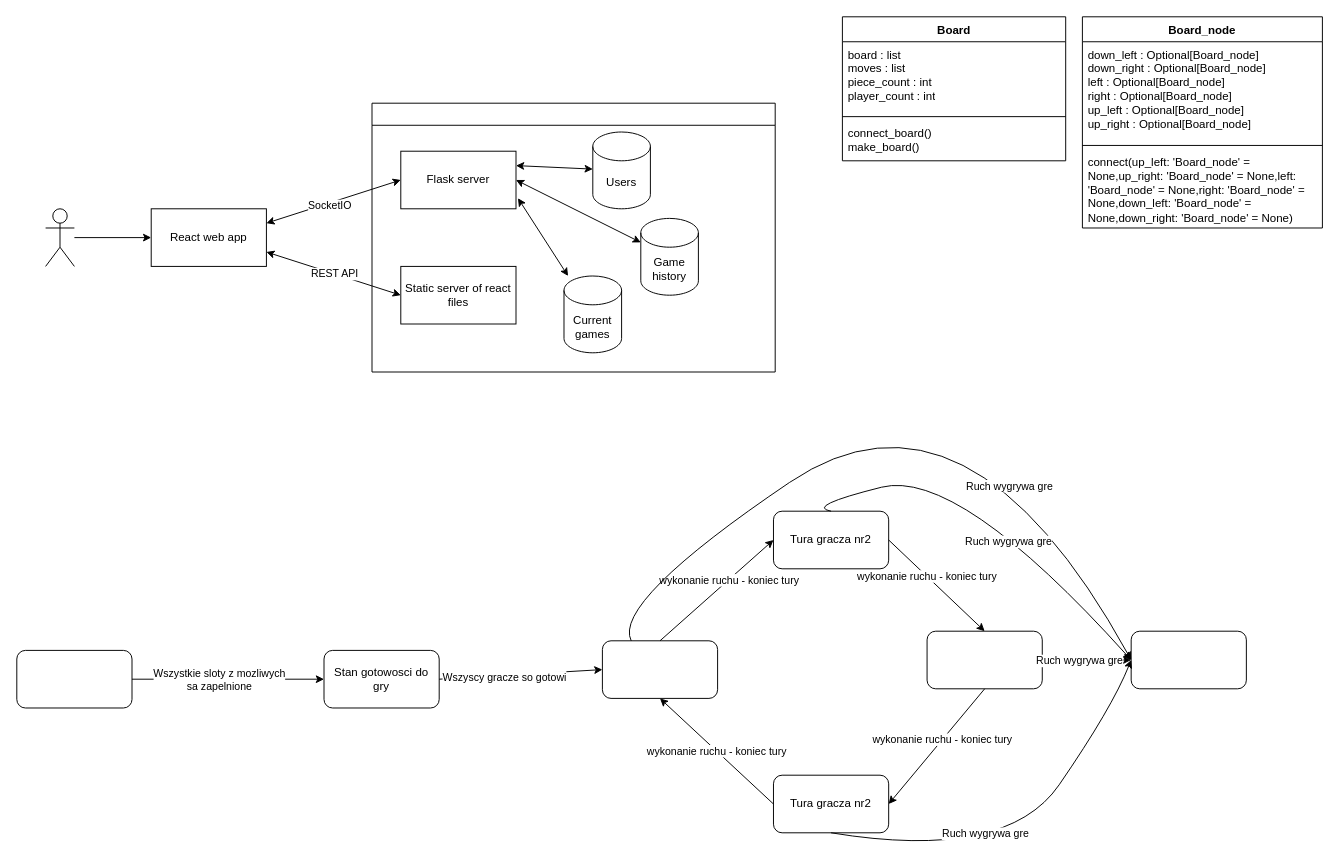
Some shapes in this 1339 by 858 pixel diagram are drawn without their labels. The box of each missing label's shape, as (x1, y1, x2, y2) in pixels:
Docker engine: (371, 102, 775, 372)
Konfiguracja lobby: (16, 649, 132, 708)
koniec gry: (1130, 630, 1246, 689)
Tura gracza nr3: (926, 630, 1042, 689)
Twoja tura: (601, 640, 718, 698)
User: (45, 208, 74, 266)
